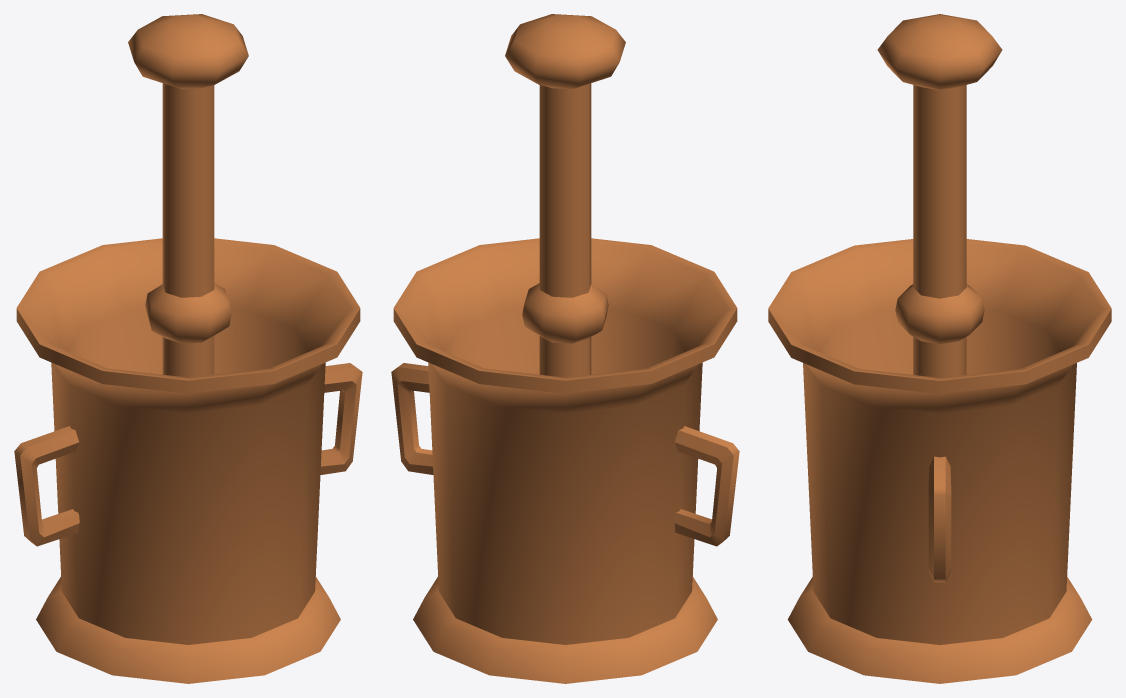
File: Mortar_02.fbx
3 views of the same model, side by side, from view 1: azimuth 30°, elevation 25°; view 2: azimuth 150°, elevation 25°; view 3: azimuth 270°, elevation 25° (orthographic).
Visible parts, largest first — view 1: Mortar_02, Pestle_02; view 2: Mortar_02, Pestle_02; view 3: Mortar_02, Pestle_02.
Boxes of the visible parts, bbox=[...] form: Mortar_02: bbox=[14, 238, 362, 683]; Pestle_02: bbox=[128, 14, 248, 377]; Mortar_02: bbox=[391, 238, 739, 683]; Pestle_02: bbox=[505, 14, 625, 377]; Mortar_02: bbox=[768, 239, 1111, 683]; Pestle_02: bbox=[877, 14, 1002, 377].
Size of the model in its own units: 0.1293 by 0.2152 by 0.1125.
